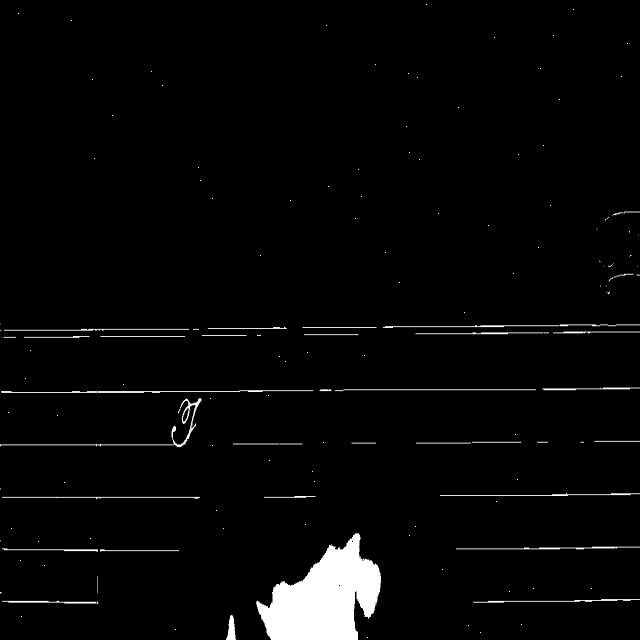hand: (256, 533, 380, 639), (226, 615, 236, 639)
noise: (0, 326, 288, 338), (382, 323, 640, 335), (0, 389, 312, 394), (0, 546, 179, 554), (456, 545, 640, 551), (474, 598, 640, 603), (440, 492, 640, 496), (0, 494, 200, 498), (302, 326, 378, 336), (336, 388, 536, 391), (0, 443, 174, 446), (233, 443, 302, 450), (416, 440, 521, 444), (2, 600, 98, 604), (264, 492, 315, 499), (542, 387, 640, 389), (592, 439, 640, 443), (440, 388, 534, 390), (96, 575, 98, 594), (319, 388, 331, 391), (537, 441, 548, 444), (351, 443, 376, 444), (581, 440, 584, 443)
not-noise: (171, 398, 201, 447)
page-marker: (596, 212, 640, 287)
